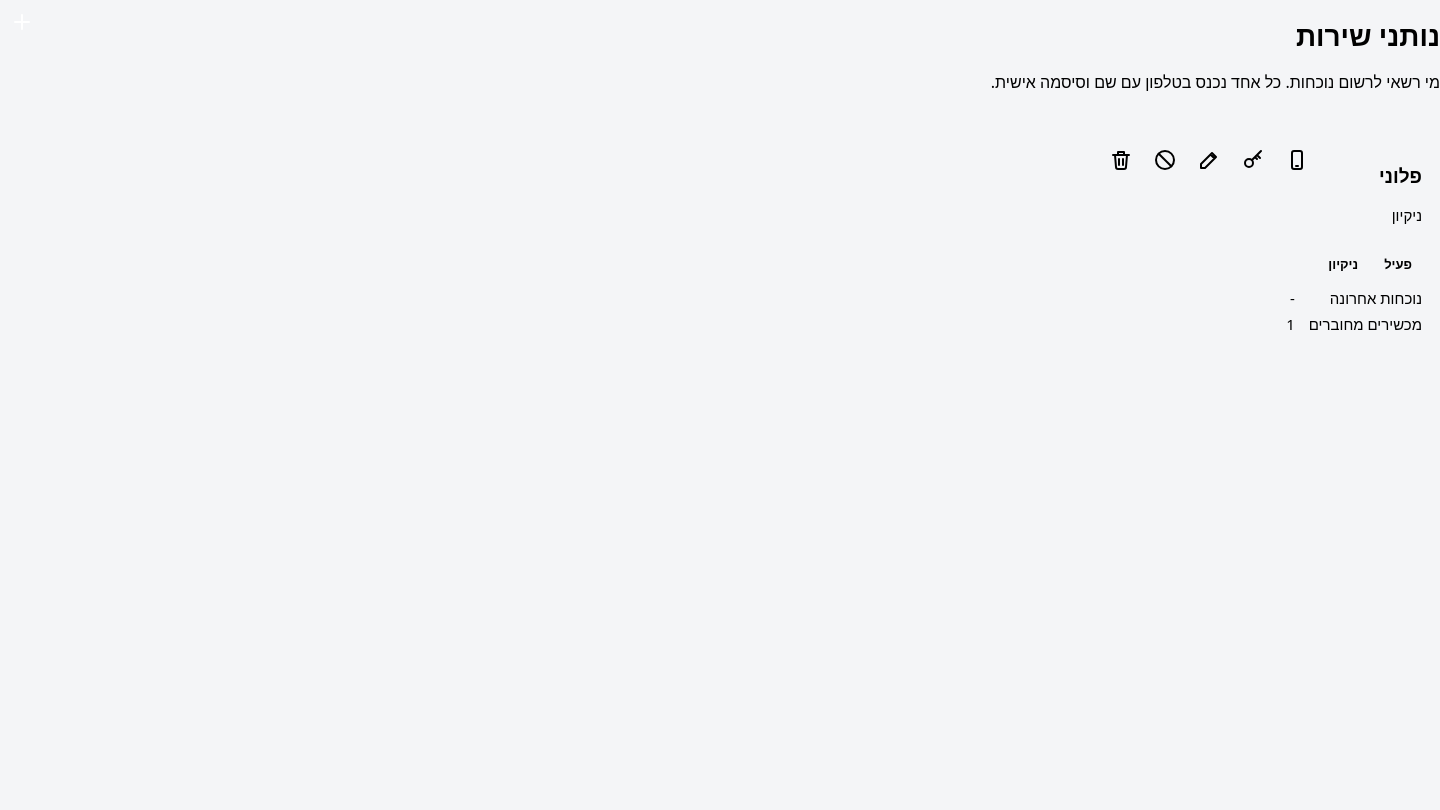
Scenario: the phones dialog › shows a phone that reported an empty queue as "אין", and the last upload it made
This screenshot has width=1440, height=810.
Expected: the heading "פלוני" is shown, [1379,163,1422,189]
Click the button named "מכשירים".
click(1296, 160)  # box [1274,138,1318,182]
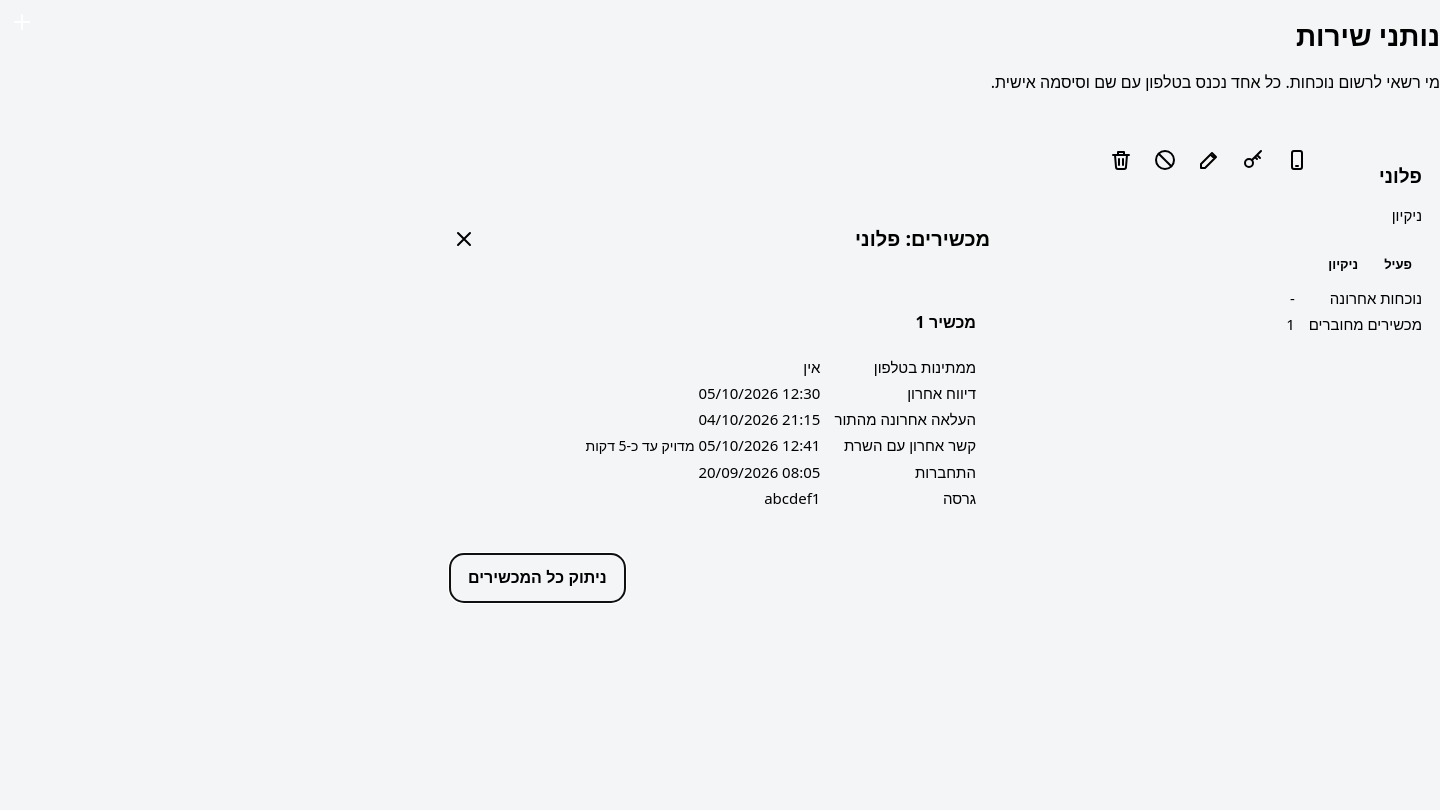
Result: the text "אין" is shown at [803,357,820,377]
Result: the element showing "04/10/2026 21:15" is shown at [698,409,820,429]
